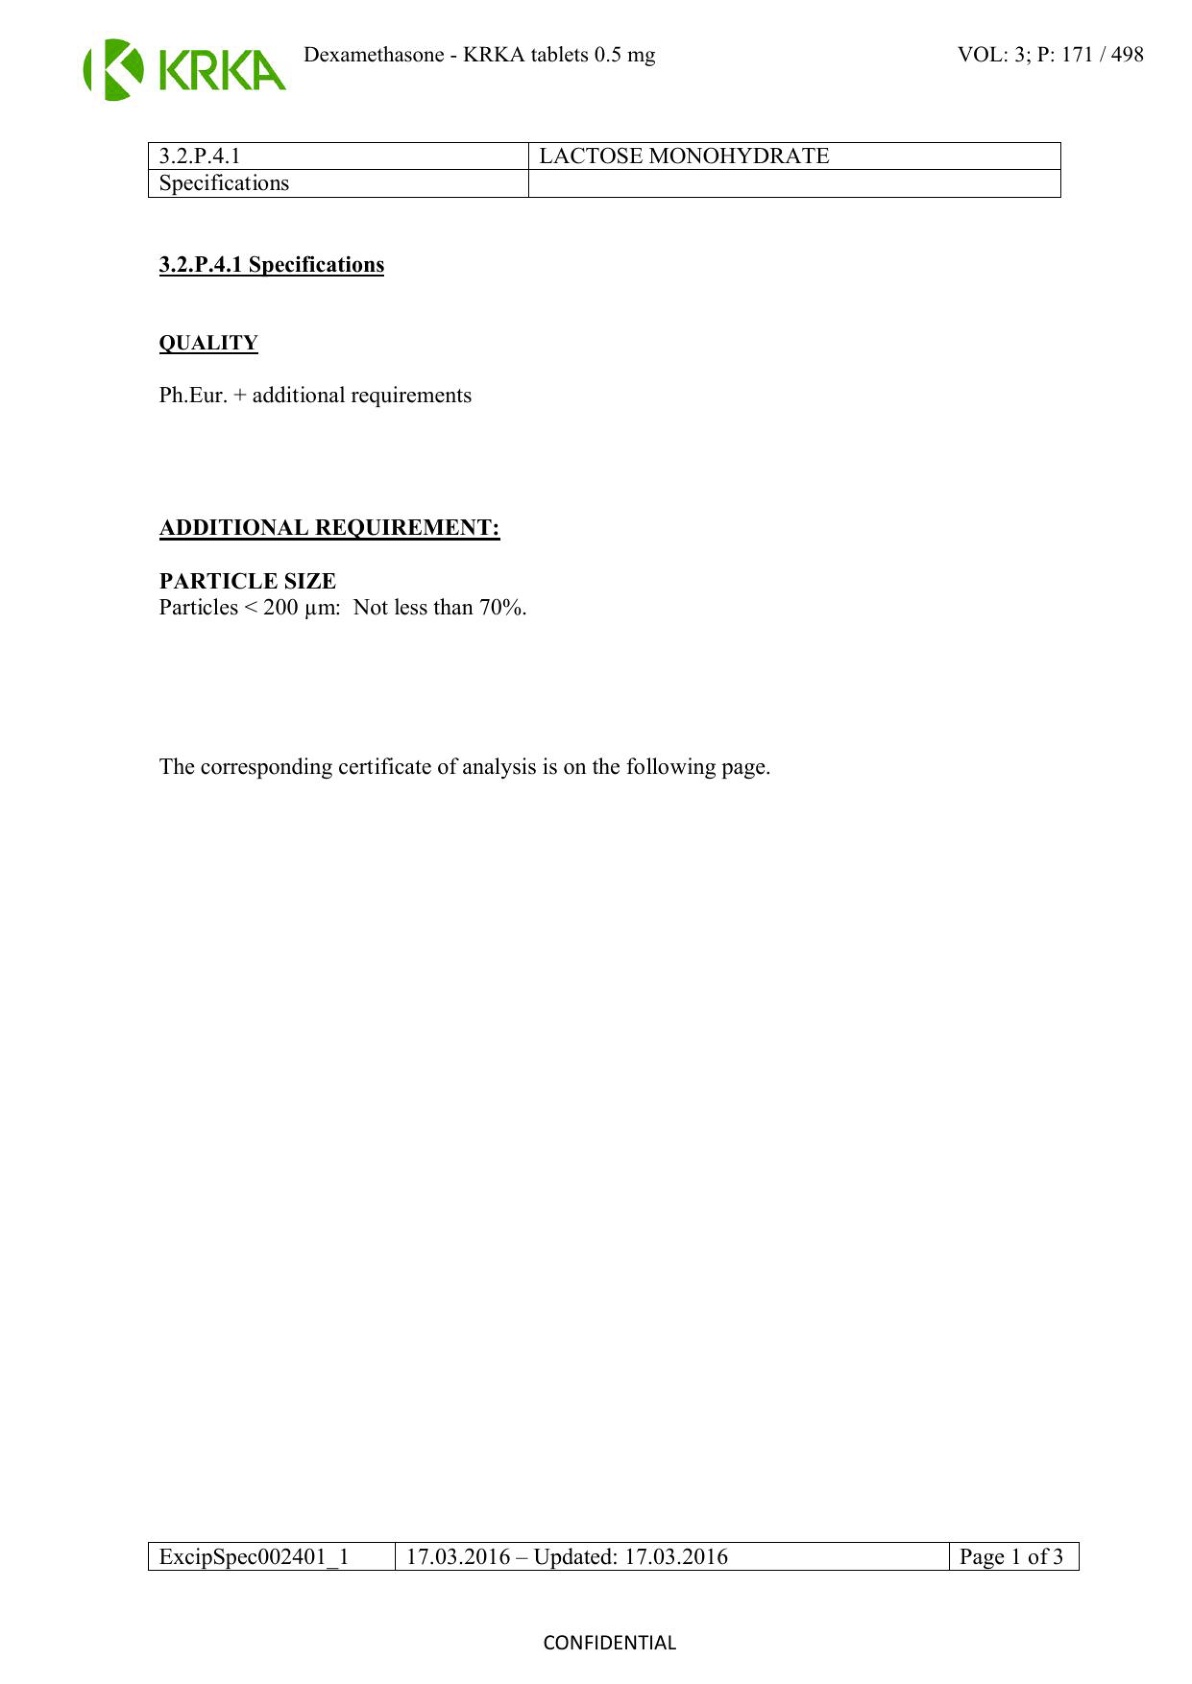full_lined: (147, 141, 1062, 199), (148, 1542, 1080, 1571)
